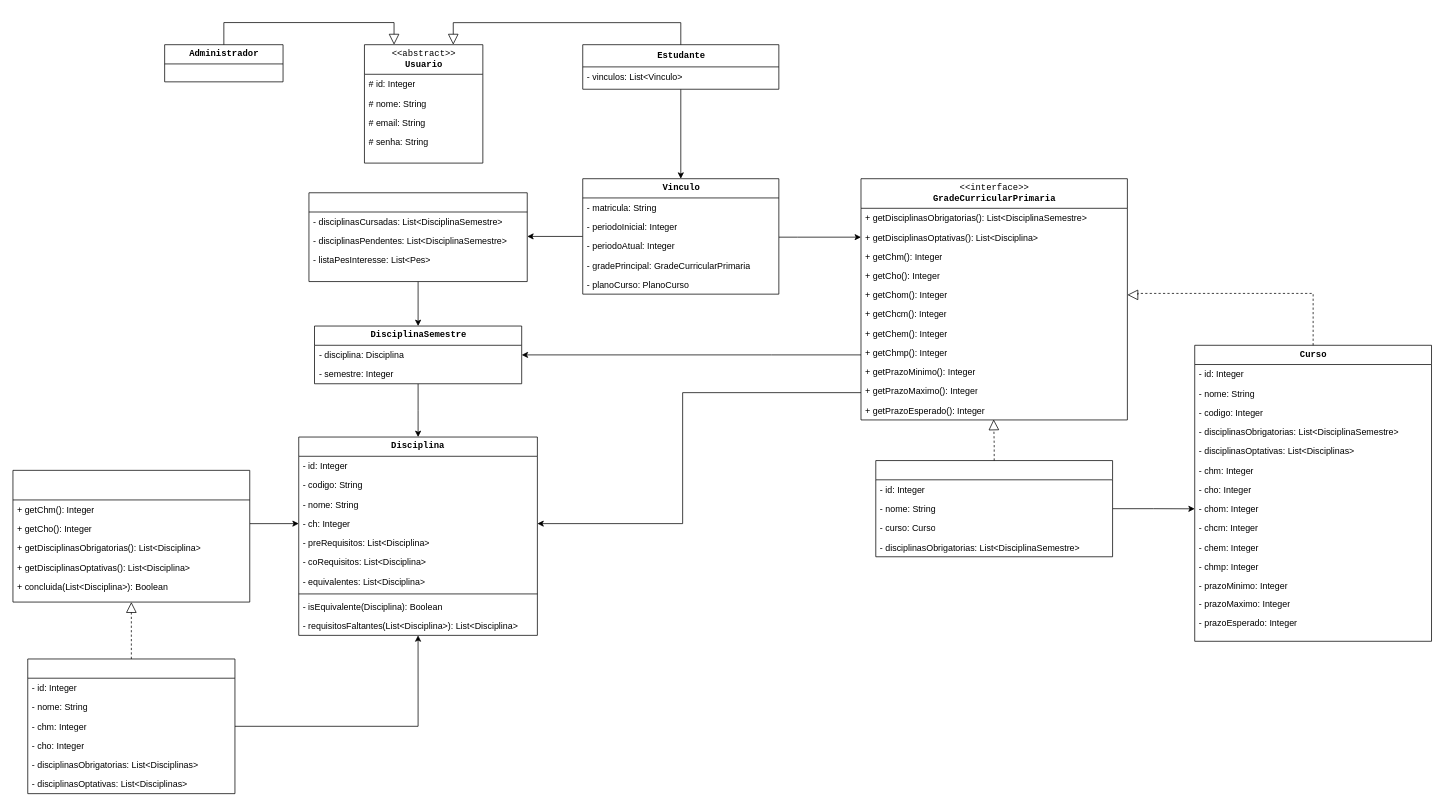
Image size: 1444x809. Some labels were removed from this diagram. Here are the shapes that lost their labels. From the top down, the box of each, then its label:
(308, 192, 527, 282): PlanoCurso
(875, 460, 1113, 557): Enfase
(12, 470, 250, 602): <<interface>> GradeCurricularSecundaria
(27, 658, 235, 794): Pes
